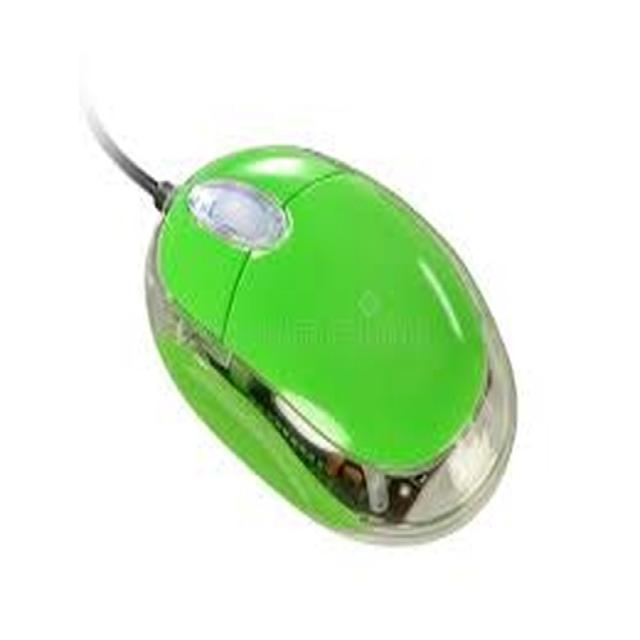mouse: (113, 110, 544, 540)
